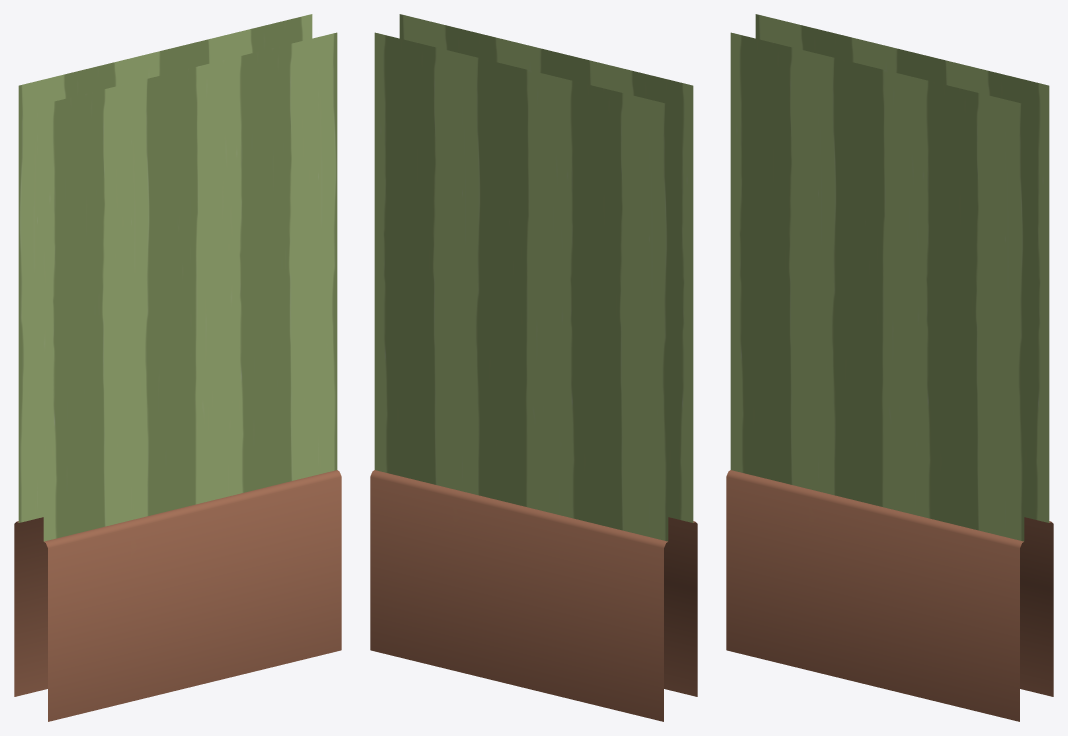
The model's file is wall_GH.fbx.
3 views of the same model, side by side, from view 1: azimuth 30°, elevation 25°; view 2: azimuth 150°, elevation 25°; view 3: azimuth 330°, elevation 25° (orthographic).
Parts seen in each view (by area): view 1: Cube.001, Cube.002; view 2: Cube.002, Cube.001; view 3: Cube.001, Cube.002.
Part boxes in pixels (x1,y1,x2,y2): Cube.001: (43,32,341,721); Cube.002: (14,14,312,696); Cube.002: (370,32,668,721); Cube.001: (399,14,697,696); Cube.001: (726,32,1024,721); Cube.002: (755,14,1053,696).
Bounding box in the file's own units: 300 × 600 × 60.
